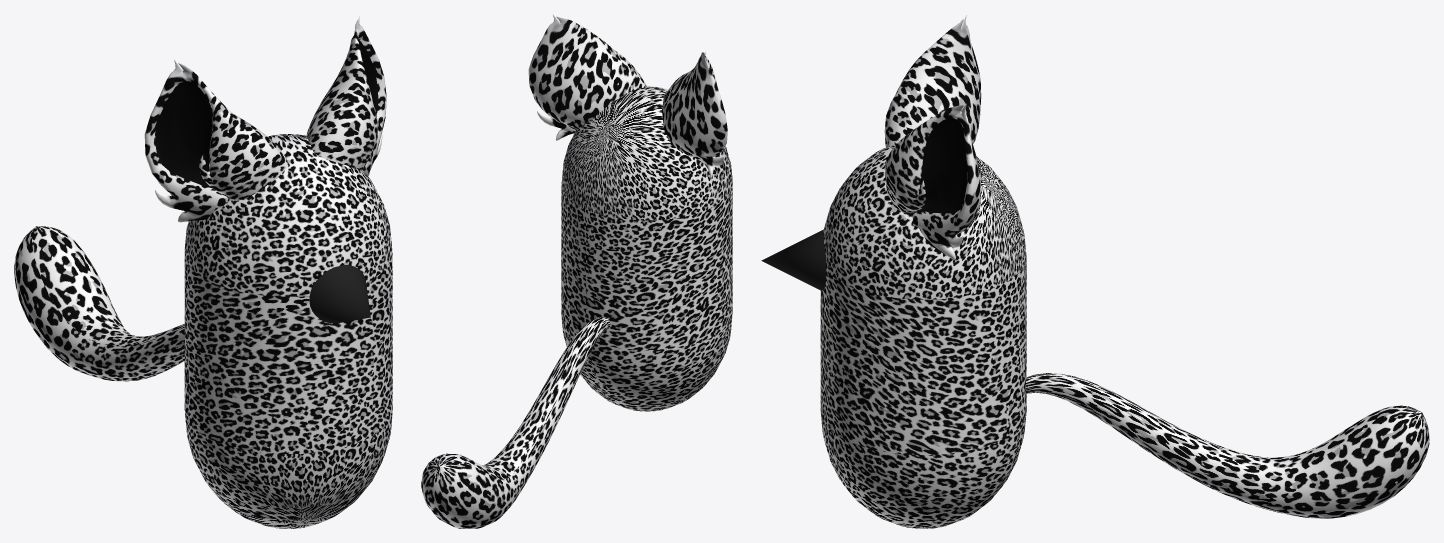
The model's file is NPC_Snep.fbx.
The picture shows the model from 3 angles, left to right: view 1: azimuth 30°, elevation 25°; view 2: azimuth 150°, elevation 25°; view 3: azimuth 270°, elevation 25°; orthographic projection. The views are drawn at different scales.
Visible parts, largest first — view 1: Snep; view 2: Snep; view 3: Snep.
Boxes of the visible parts, <box> form: Snep: <box>14,16,392,528</box>; Snep: <box>421,14,732,528</box>; Snep: <box>761,15,1429,528</box>.
Size of the model in its own units: 1.33 by 2.48 by 3.25.
